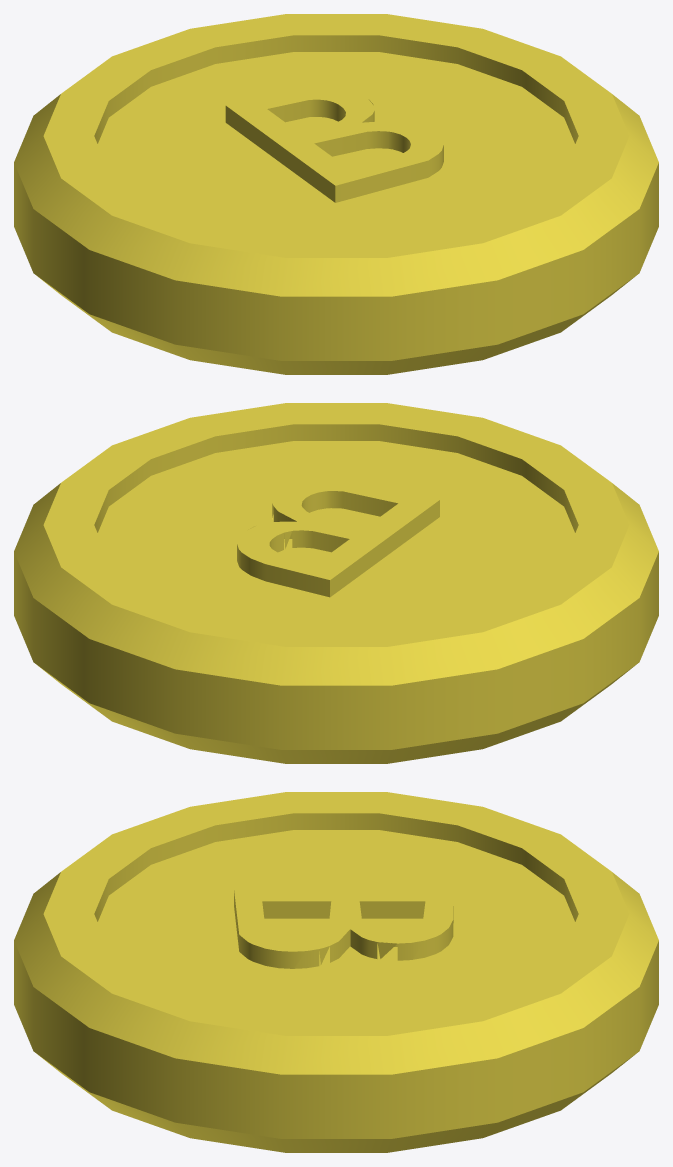
Rendered from Bit_coin.glb.
The picture shows the model from 3 angles, top to bottom: view 1: azimuth 30°, elevation 25°; view 2: azimuth 150°, elevation 25°; view 3: azimuth 270°, elevation 25°; orthographic projection.
Visible parts, largest first — view 1: BitCoin; view 2: BitCoin; view 3: BitCoin.
Boxes of the visible parts, x1,y1,x2,y2 form: BitCoin: (14,14,658,374); BitCoin: (14,403,658,763); BitCoin: (14,792,658,1152).
Bounding box in the file's own units: 1.97 × 0.4018 × 2.
